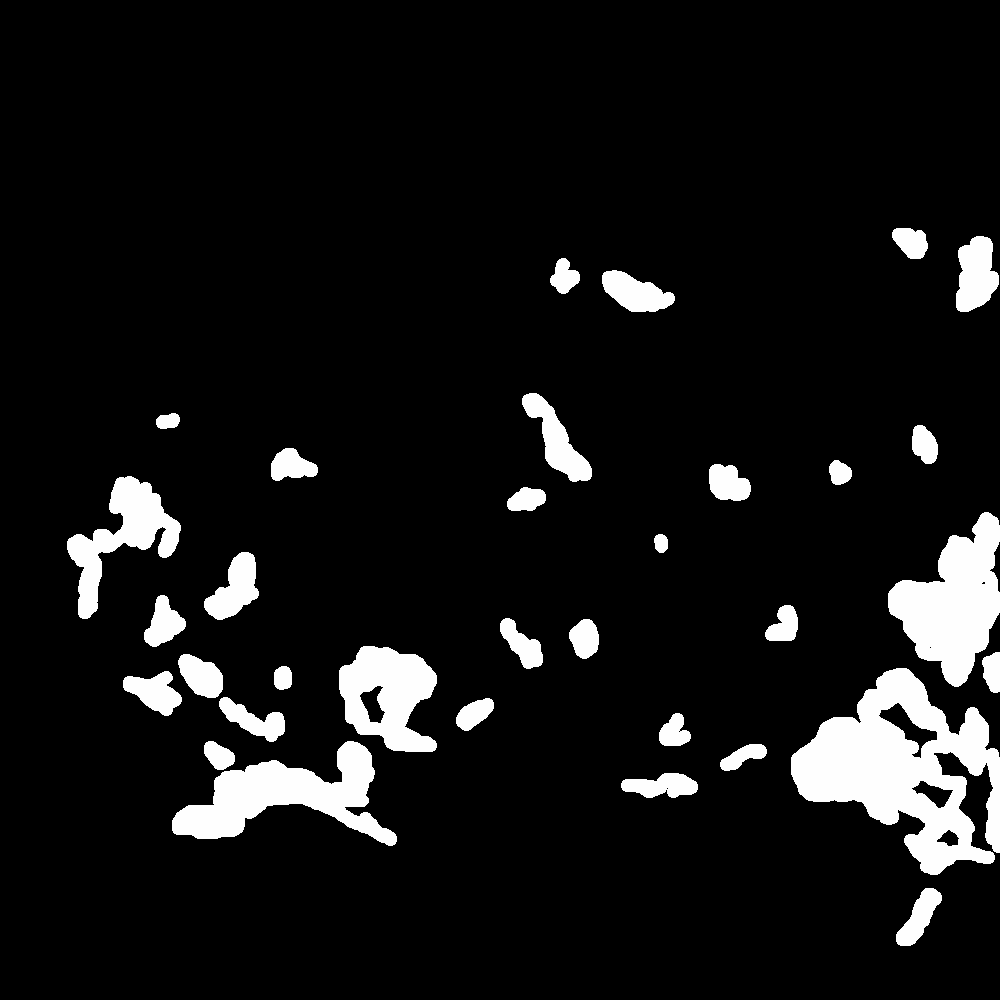illegal: (444, 228, 1000, 870), (66, 383, 403, 846), (331, 640, 494, 791), (881, 838, 942, 951)
